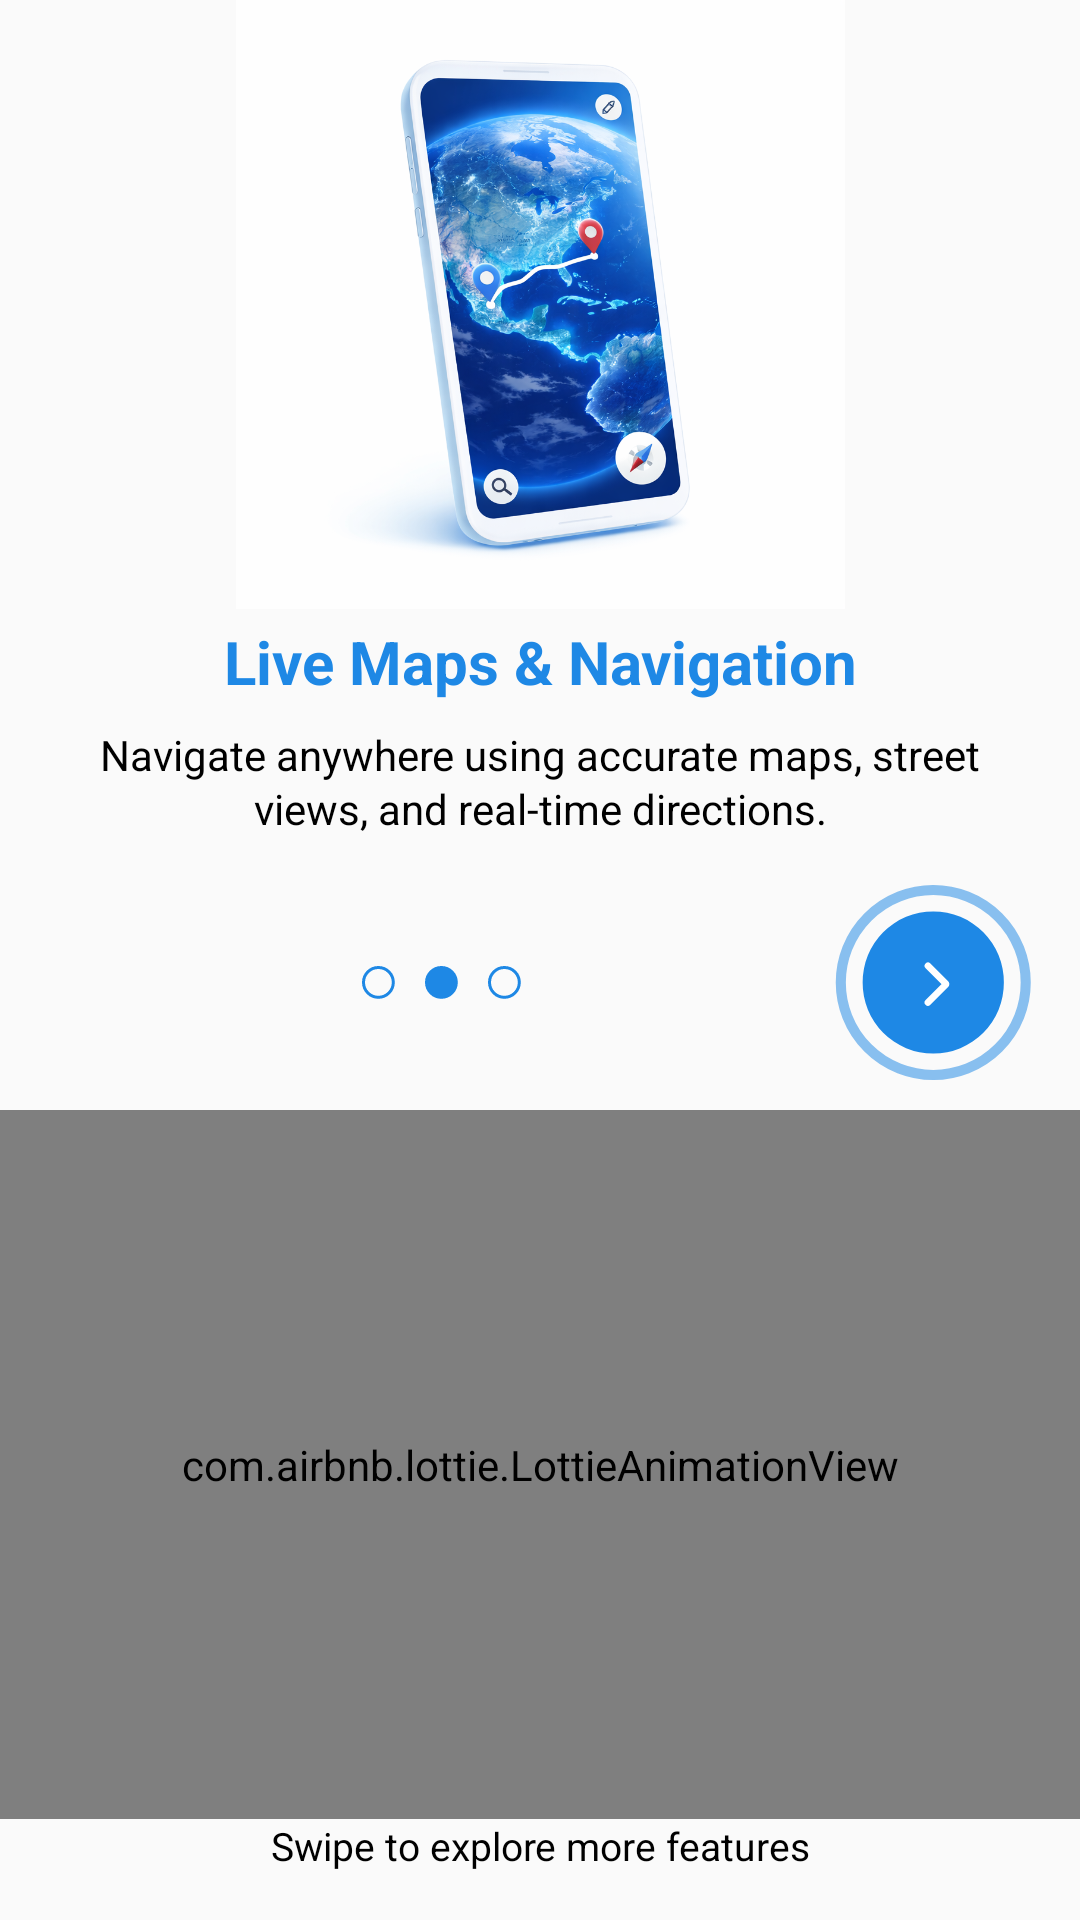

Locate icon controls on the screen. Image size 1080*1920, boxes as (x1, y1, x2, y2).
dot: (362, 966, 521, 999)
nextbtnround: (835, 885, 1031, 1080)
